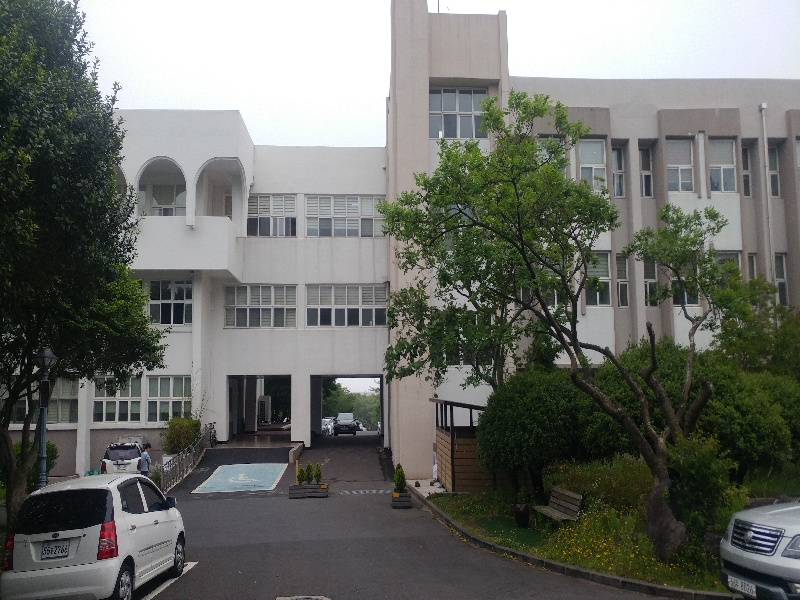Main Building: (112, 4, 790, 357), (111, 111, 387, 440)
